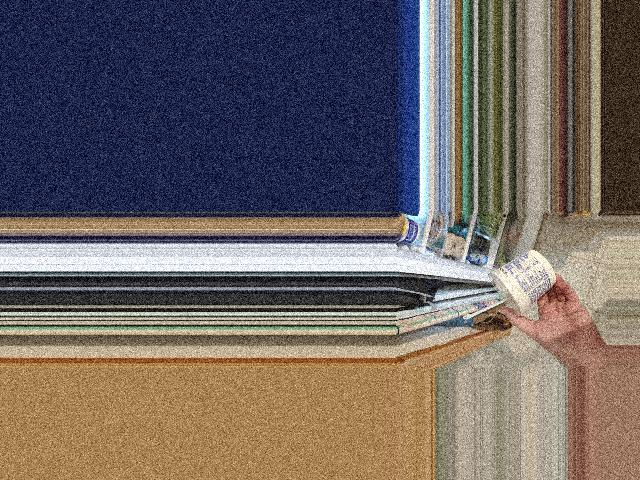cotage: (486, 248, 558, 314)
